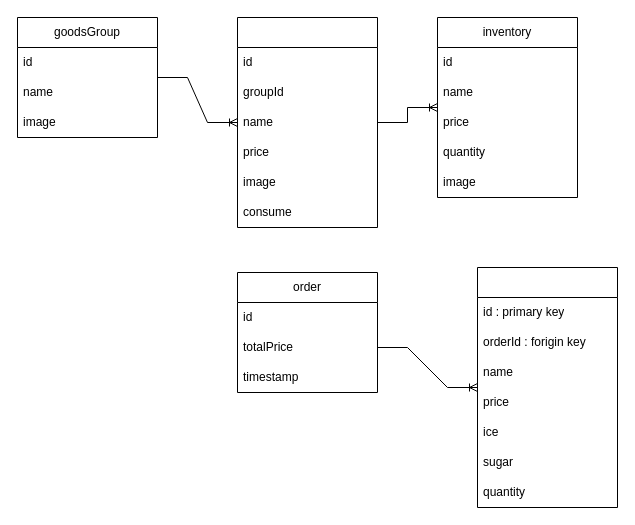
Some shapes in this 635 by 525 pixel diagram are drawn without their labels. The shapes that lost their labels are listed below. From the top down, each one's box as (x1, y1, x2, y2) in pixels, then its label:
(236, 16, 378, 228): goods
(476, 266, 618, 508): sell
